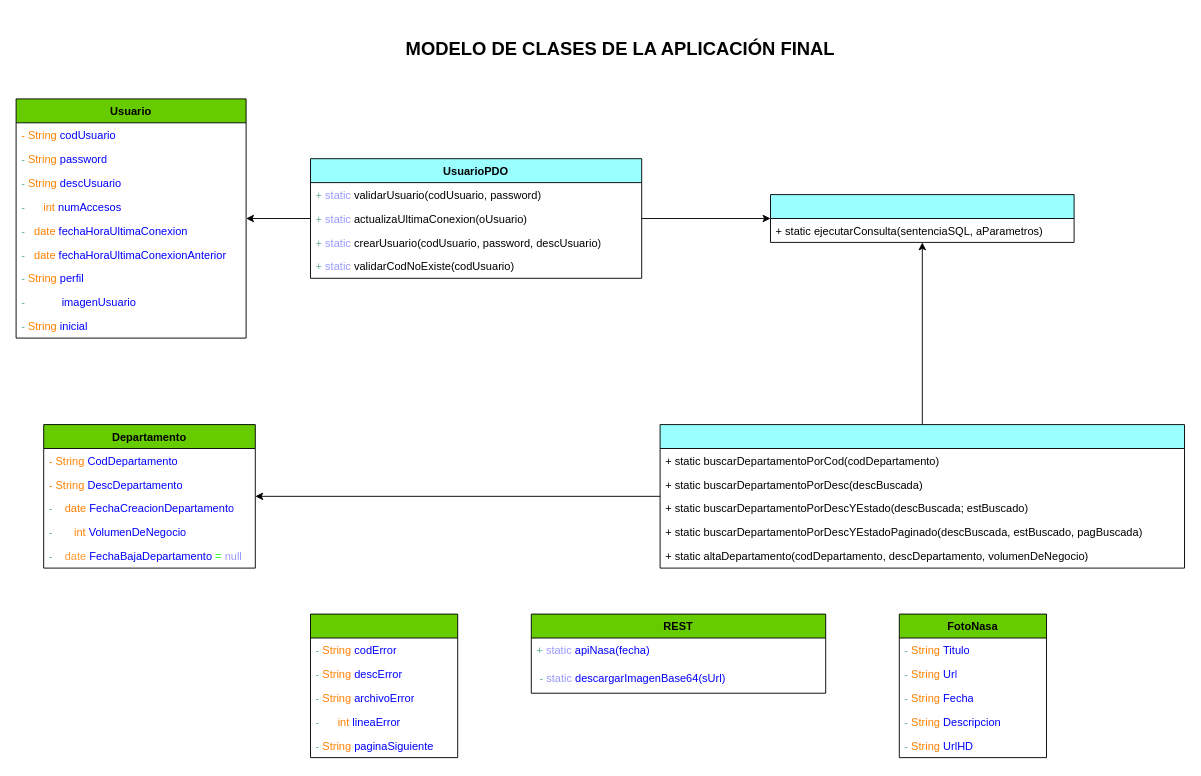
Image size: 1201x776. Some labels were removed from this diagram. The shapes that lost their labels are listed below. From the top down, each one's box as (x1, y1, x2, y2) in pixels, then its label:
(770, 194, 1074, 242): DBPDO
(659, 424, 1184, 568): DepartamentoPDO
(310, 613, 458, 758): AppError
